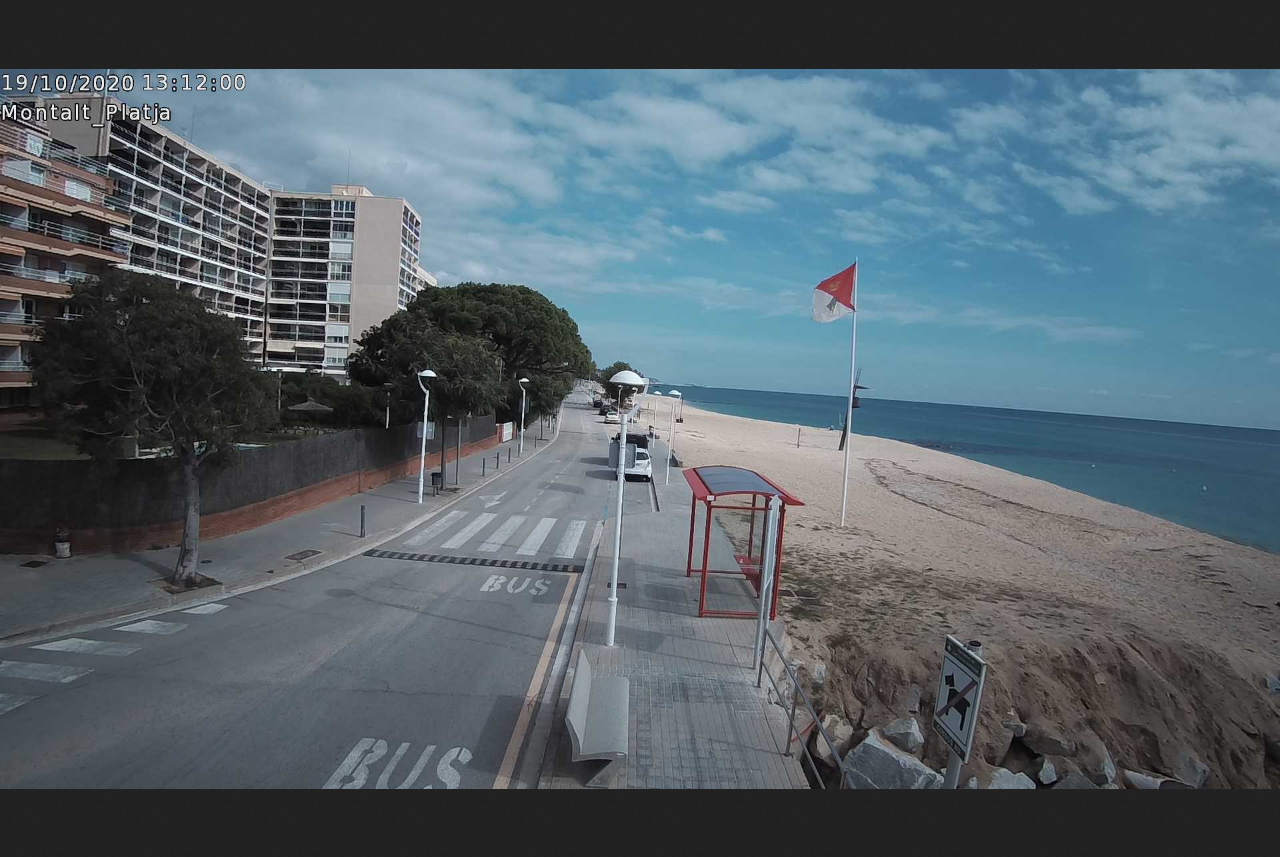maybe: (801, 250, 863, 328)
